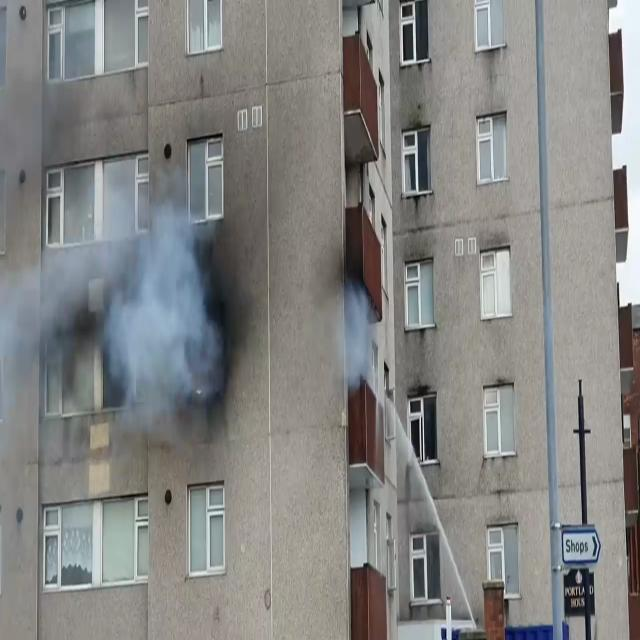Smoke: (0, 165, 232, 440), (340, 274, 380, 399)
